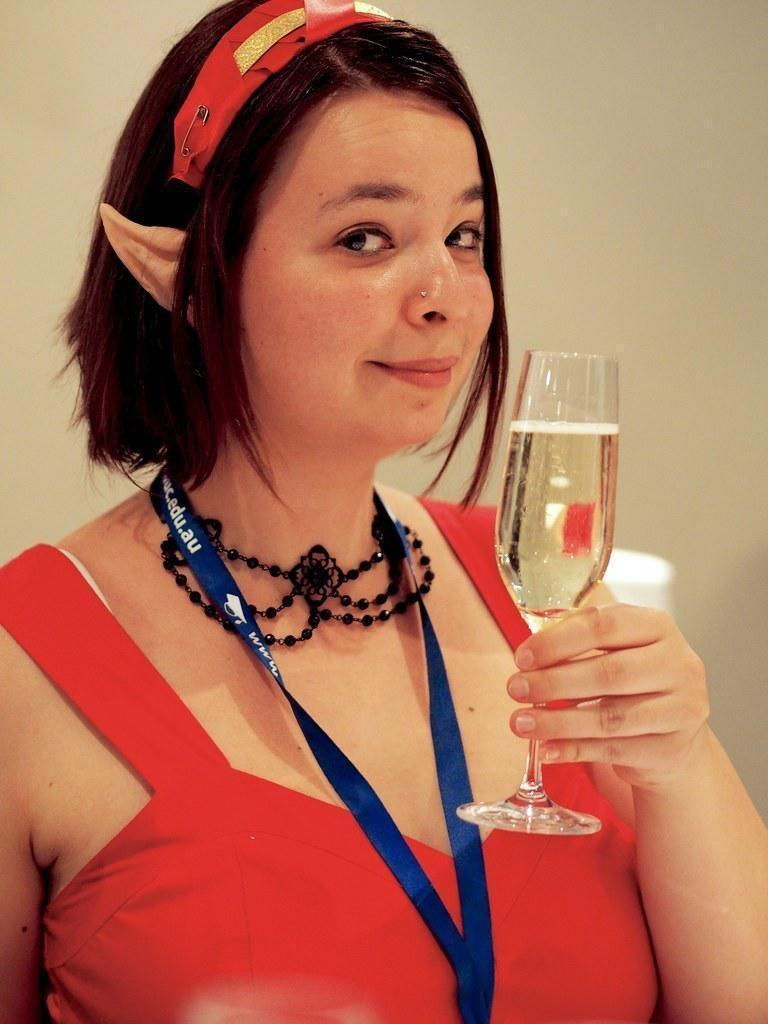glass-wine: (456, 336, 629, 835)
